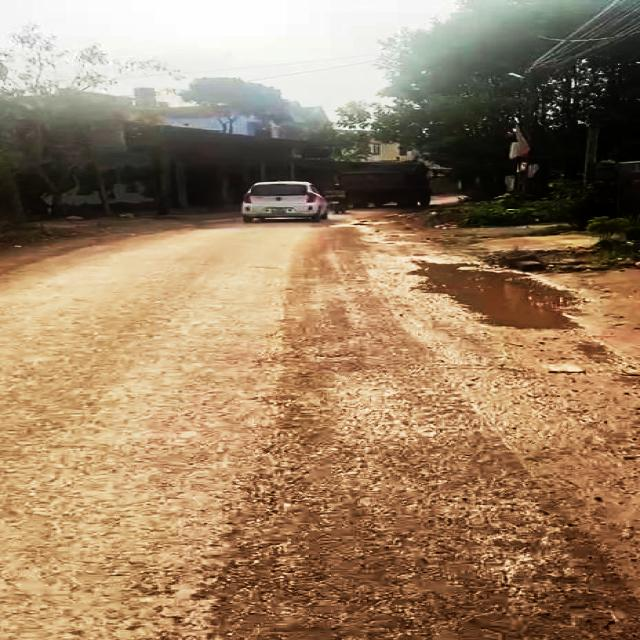pothole: (397, 258, 596, 333)
